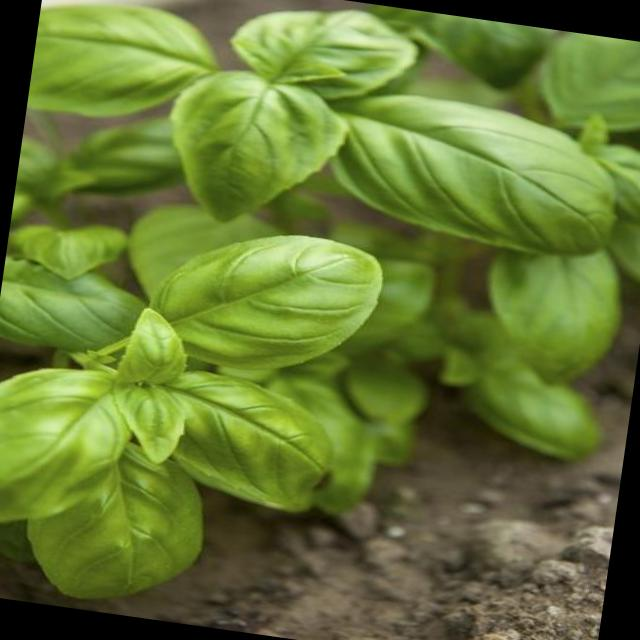Sweet Basil: (17, 0, 640, 293), (0, 211, 394, 640)
